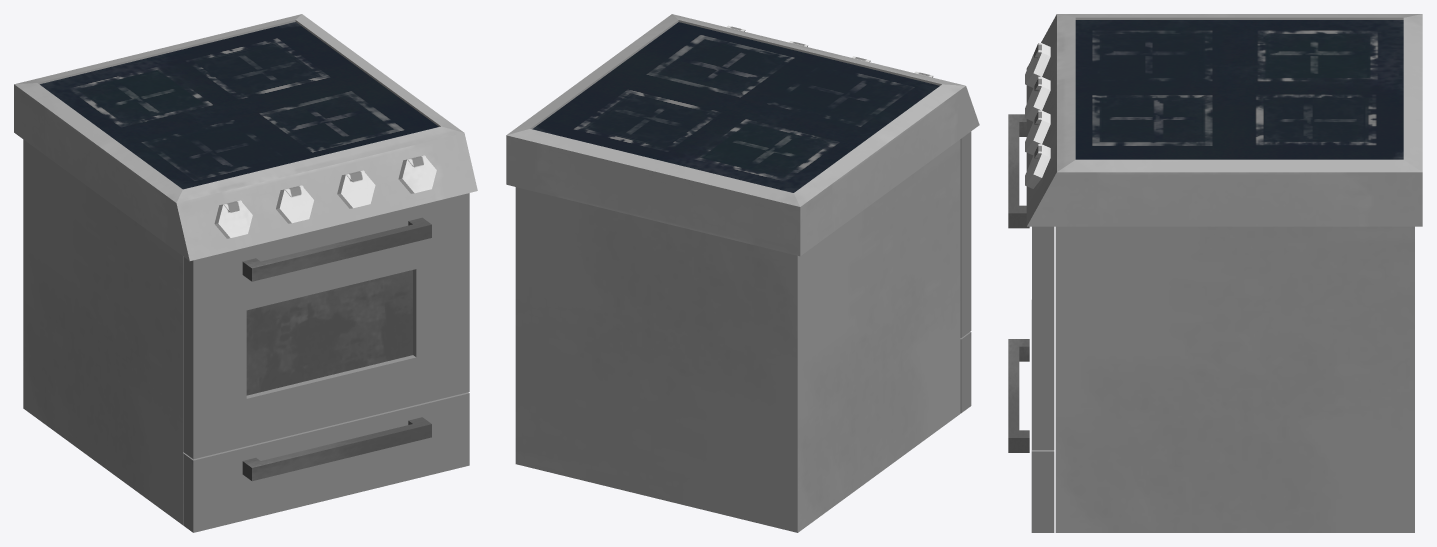
The model's file is FBX_Model_MABacklog_Stove.fbx.
3 views of the same model, side by side, from view 1: azimuth 30°, elevation 25°; view 2: azimuth 150°, elevation 25°; view 3: azimuth 270°, elevation 25° (orthographic). The views are drawn at different scales.
Parts seen in each view (by area): view 1: Stove_Body, Stove_Door, Stove_BottomDrawer, Stove_BottomDrawer_Handle, Stove_Door_Handle, pCylinder4, pCylinder2, pCylinder1, pCylinder3; view 2: Stove_Body, Stove_Door, Stove_BottomDrawer; view 3: Stove_Body, Stove_Door, Stove_BottomDrawer, Stove_BottomDrawer_Handle, Stove_Door_Handle, pCylinder4, pCylinder2, pCylinder3, pCylinder1.
Part boxes in pixels (x1,y1,x2,y2): Stove_Body: [14, 14, 477, 524]; Stove_Door: [183, 193, 469, 459]; Stove_BottomDrawer: [183, 392, 469, 532]; Stove_BottomDrawer_Handle: [242, 417, 431, 481]; Stove_Door_Handle: [242, 217, 431, 281]; pCylinder4: [398, 155, 436, 193]; pCylinder2: [276, 185, 313, 223]; pCylinder1: [214, 200, 252, 238]; pCylinder3: [337, 170, 375, 208]; Stove_Body: [506, 14, 979, 532]; Stove_Door: [960, 131, 971, 337]; Stove_BottomDrawer: [960, 331, 971, 413]; Stove_Body: [1026, 14, 1422, 532]; Stove_Door: [1032, 226, 1054, 449]; Stove_BottomDrawer: [1031, 300, 1054, 532]; Stove_BottomDrawer_Handle: [1008, 339, 1029, 452]; Stove_Door_Handle: [1008, 114, 1029, 228]; pCylinder4: [1025, 144, 1050, 188]; pCylinder2: [1025, 76, 1050, 121]; pCylinder3: [1025, 110, 1050, 155]; pCylinder1: [1025, 43, 1050, 87].
Bounding box in the file's own units: 8.34 × 9.04 × 9.22.
1 material, 1 textured.
